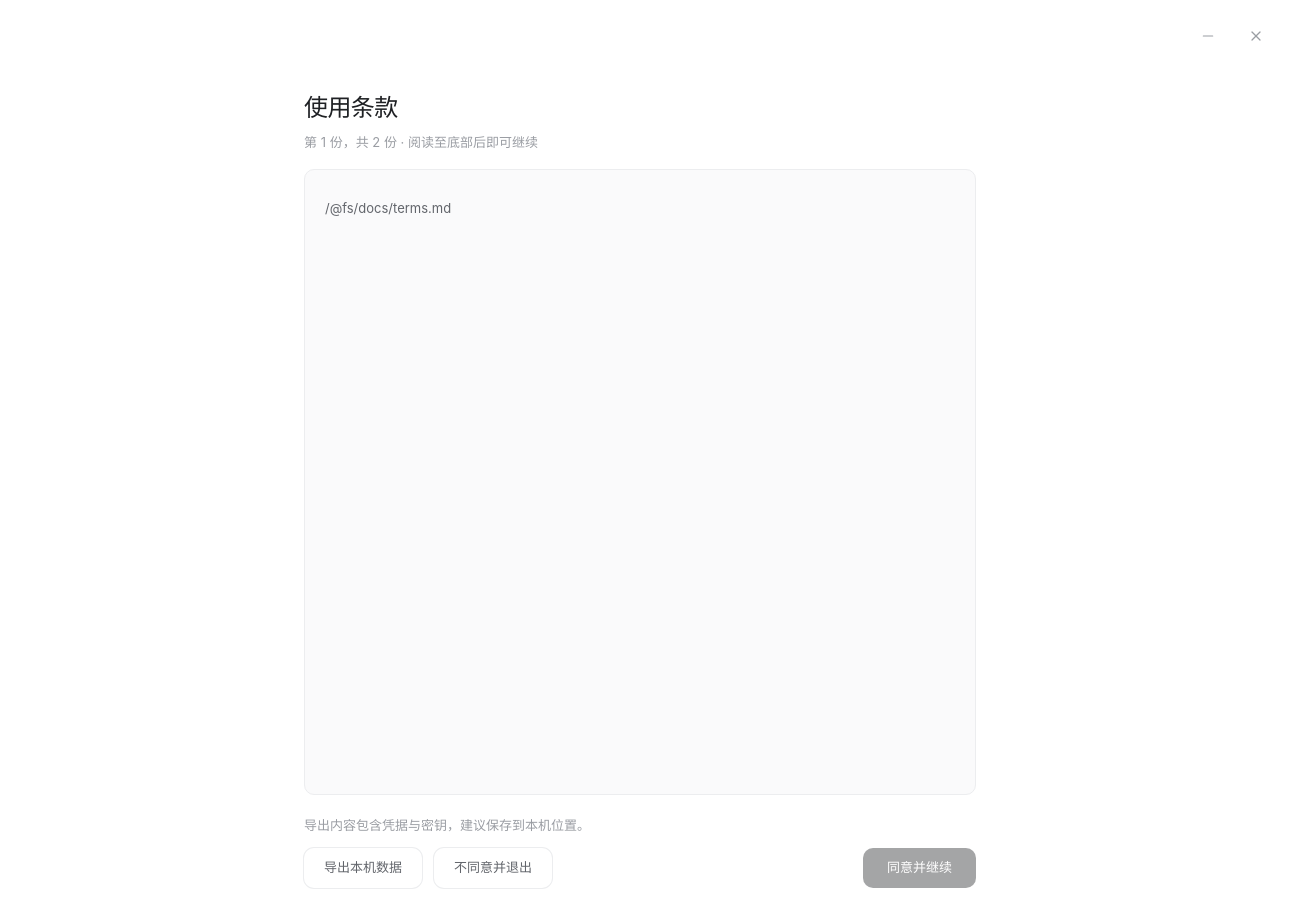
导出期间两个按钮都锁住，连点不会重复导出
The image size is (1292, 912).
Click the button "导出本机数据": (363, 868) top-left (304, 848), bottom-right (422, 888)
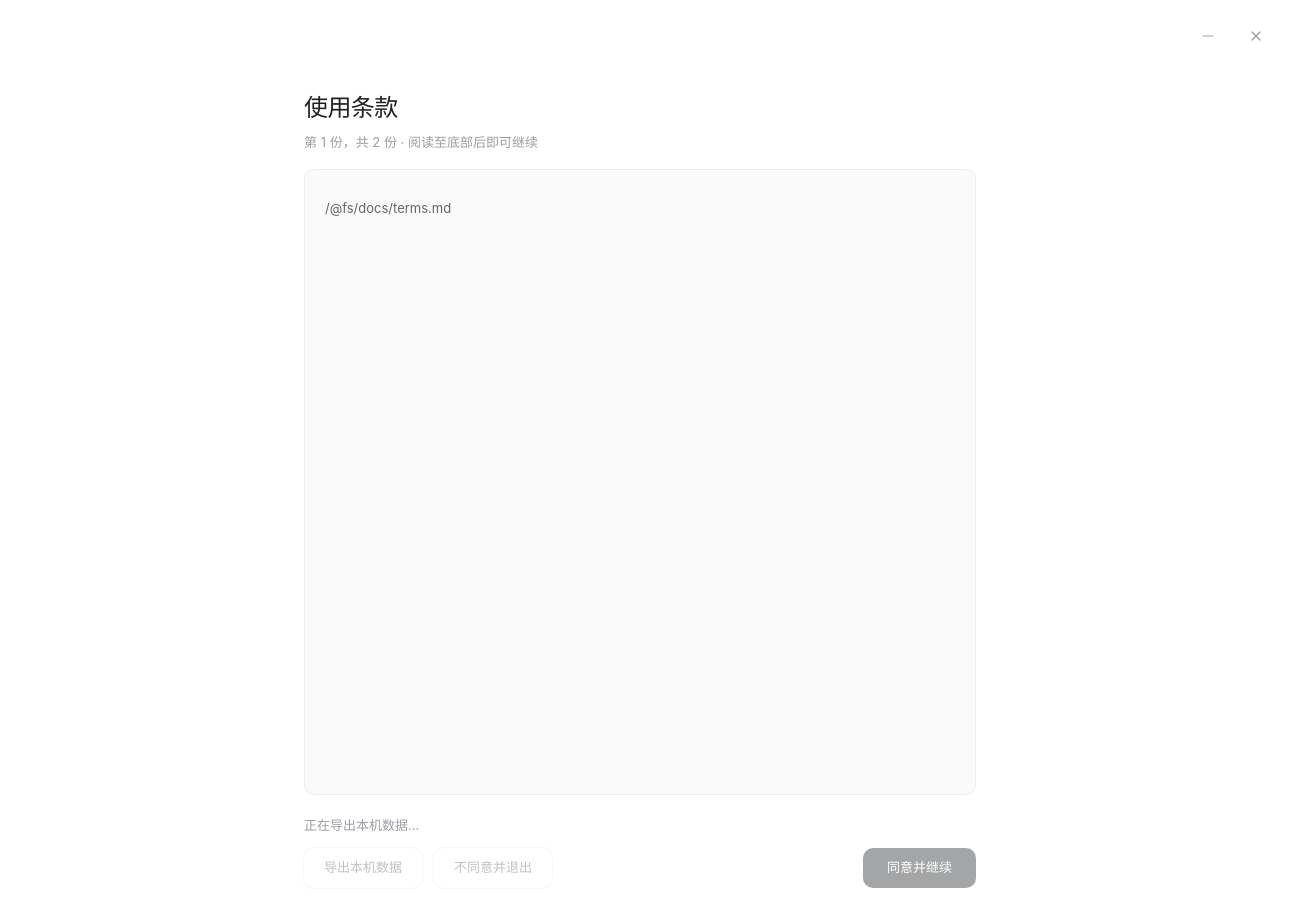
Check: the button "导出本机数据" is disabled
Check: the button "不同意并退出" is disabled, box top-left (434, 848), bottom-right (552, 888)
Click the button "导出本机数据": (363, 868) top-left (304, 848), bottom-right (422, 888)
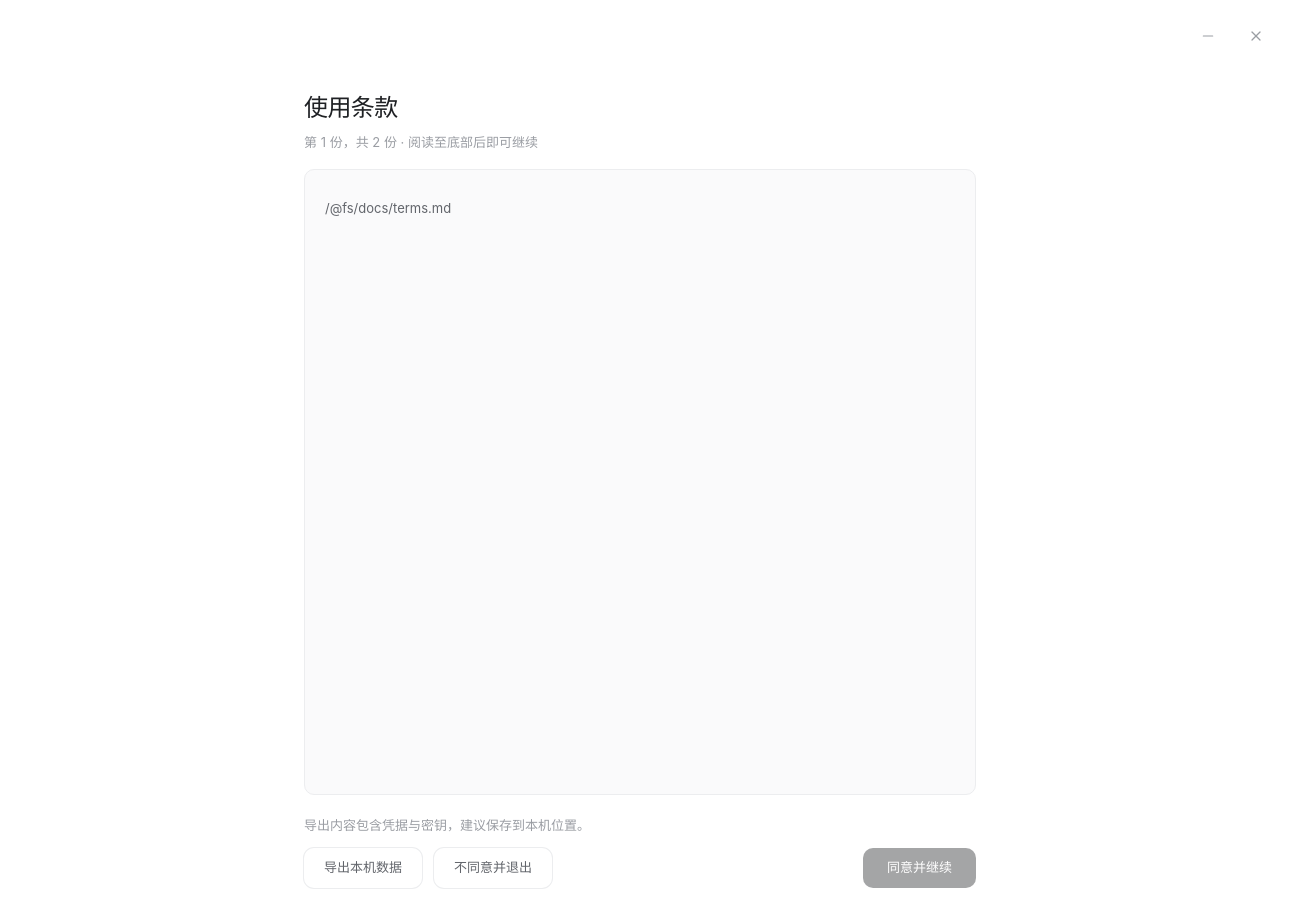
Check: the button "导出本机数据" is enabled, box top-left (304, 848), bottom-right (422, 888)
Check: the button "不同意并退出" is enabled, box top-left (434, 848), bottom-right (552, 888)
